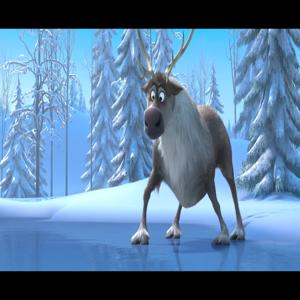sven: (134, 43, 247, 257)
